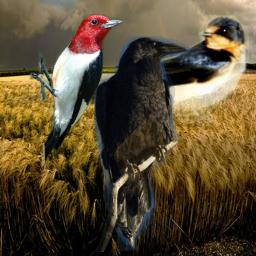Crow: (94, 36, 191, 252)
Swallow: (42, 15, 249, 123)
Woodpecker: (28, 14, 126, 169)
